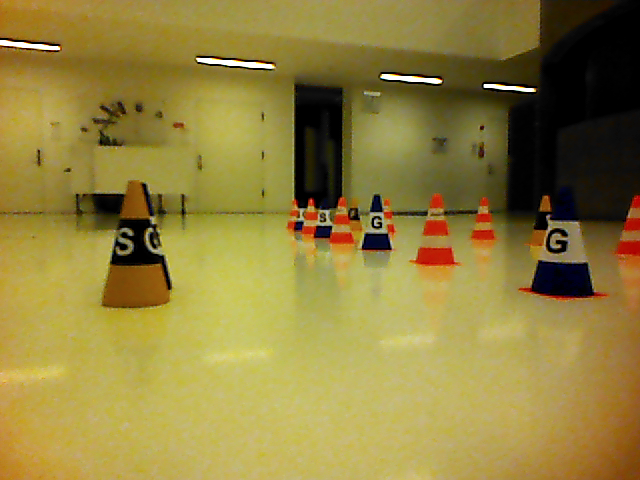bluecone: (534, 187, 595, 298)
yellowcone: (102, 179, 171, 312)
